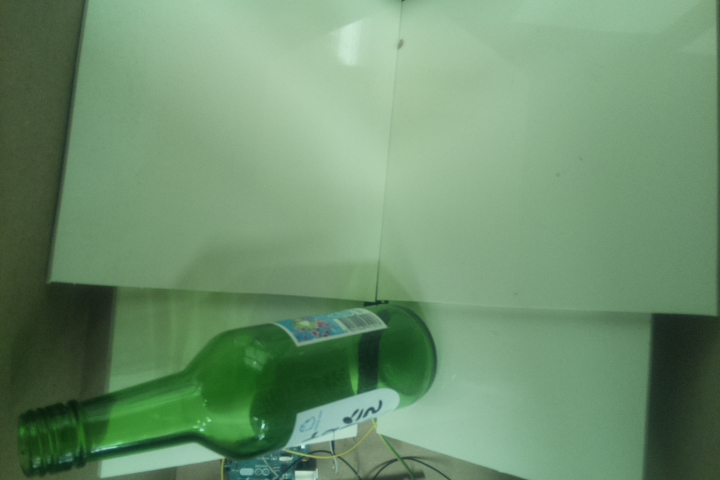soju: (10, 304, 439, 480)
